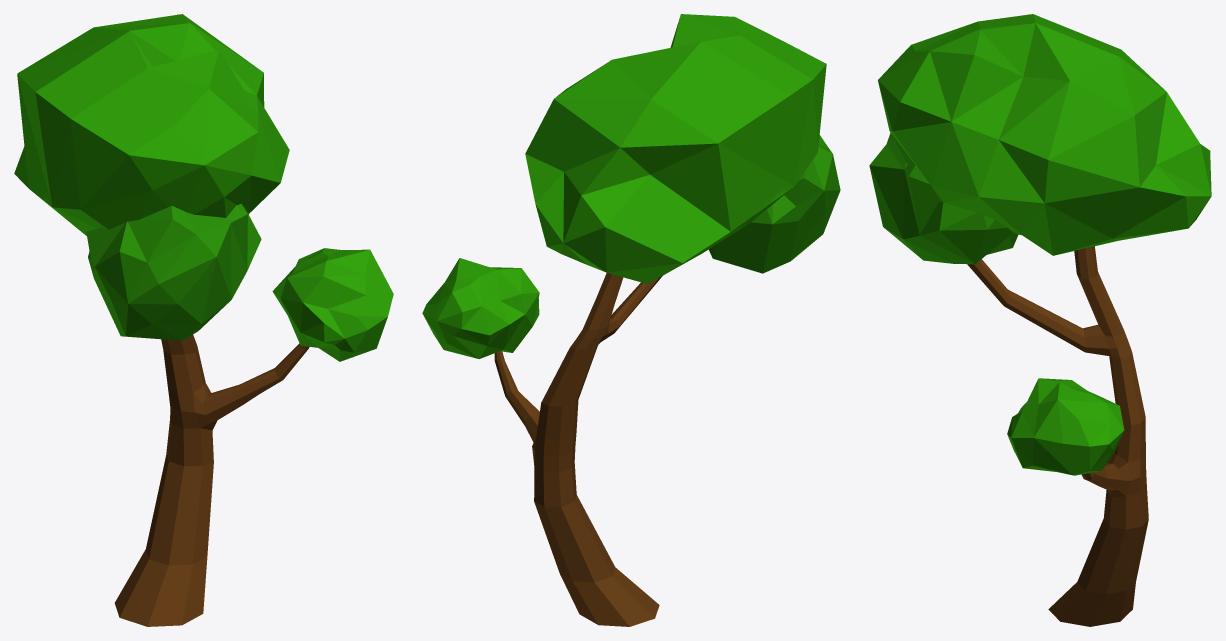
Rendered from tree.glb.
3 renders of one model, left to right at view 1: azimuth 30°, elevation 25°; view 2: azimuth 150°, elevation 25°; view 3: azimuth 270°, elevation 25°, orthographic. The views are drawn at different scales.
Visible parts, largest first — view 1: Tree_2; view 2: Tree_2; view 3: Tree_2.
Part boxes in pixels (box(x1,y1,x2,y2)): Tree_2: box(14, 14, 393, 626); Tree_2: box(422, 14, 840, 626); Tree_2: box(869, 14, 1211, 626).
Size of the model in its own units: 3.02 by 4.83 by 2.67.
1 material, 1 textured.
